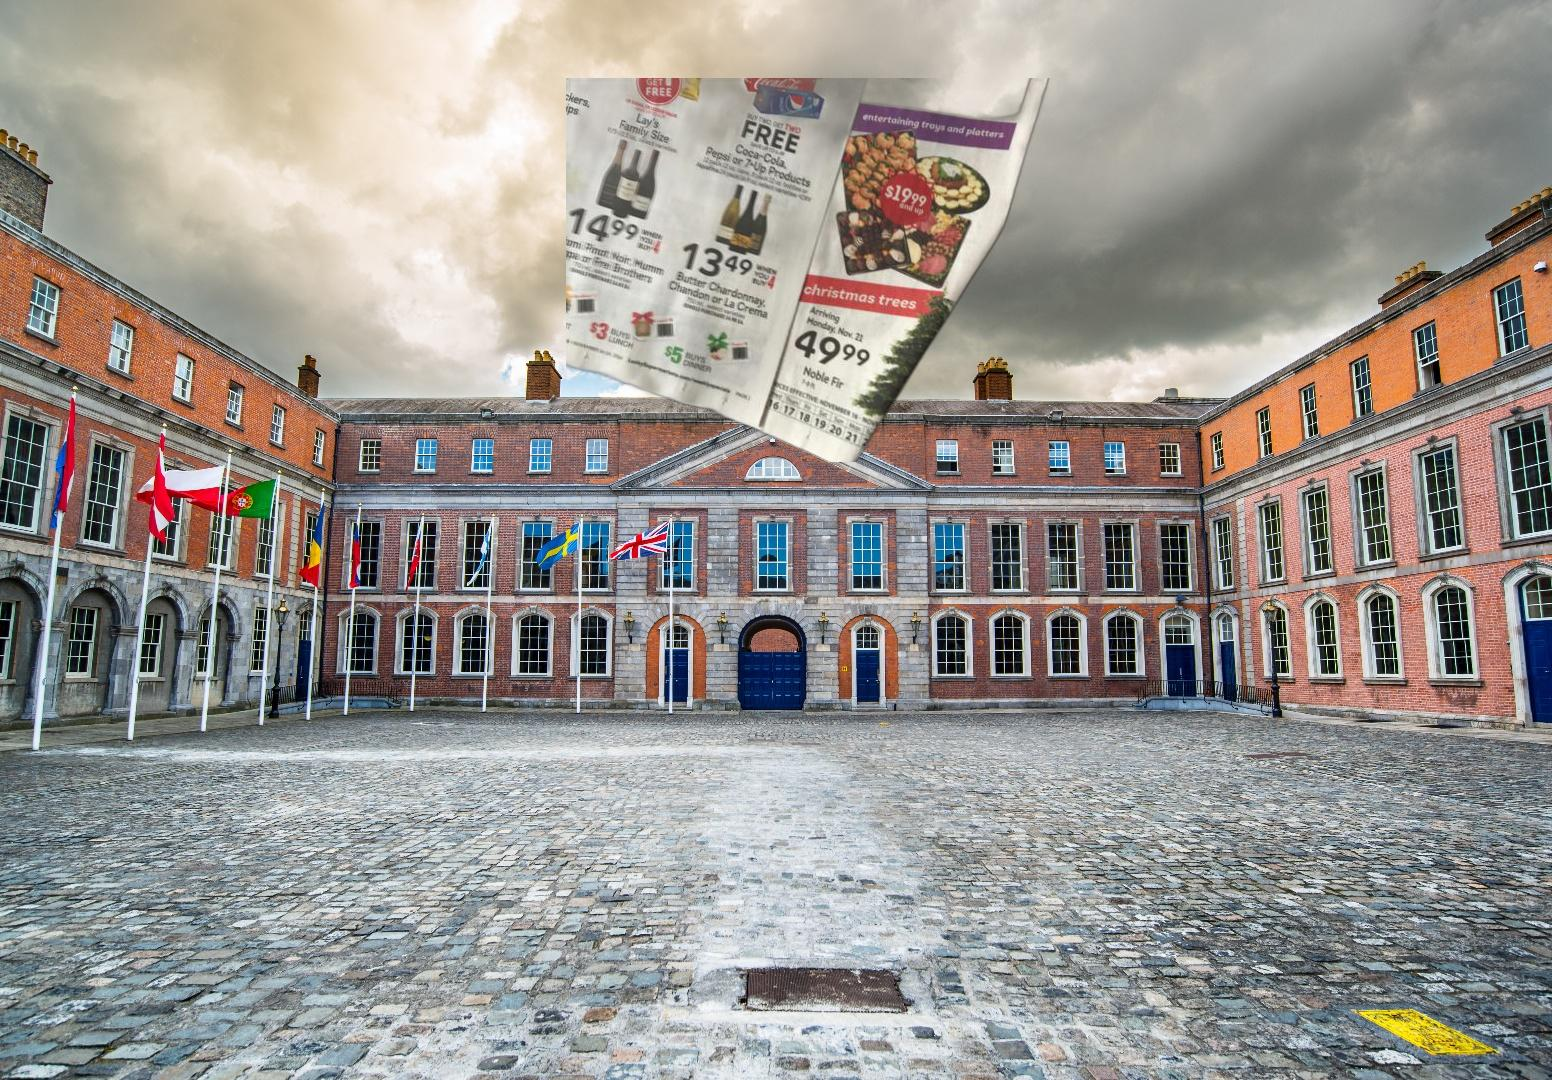paper: (566, 78, 1078, 462)
